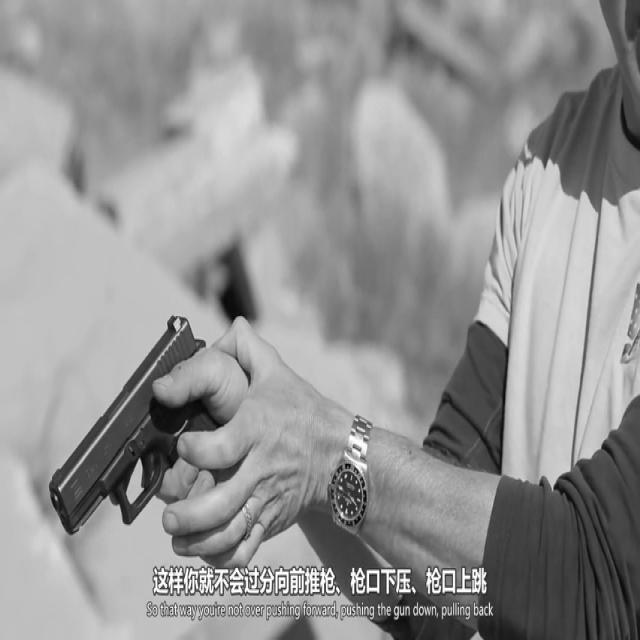Hand-Gun: (2, 212, 255, 604)
